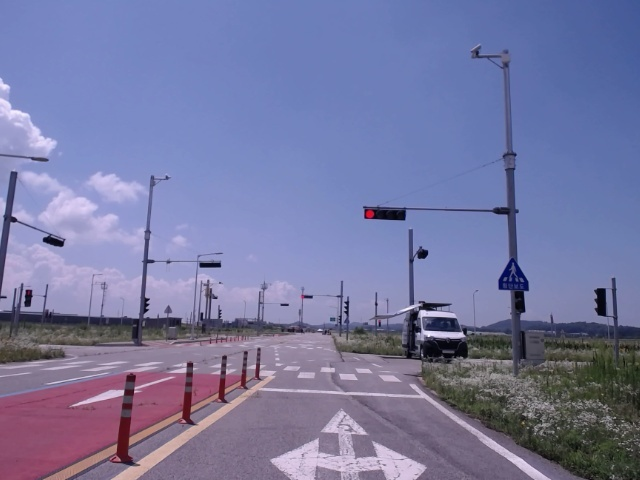red_4: (364, 209, 405, 220)
